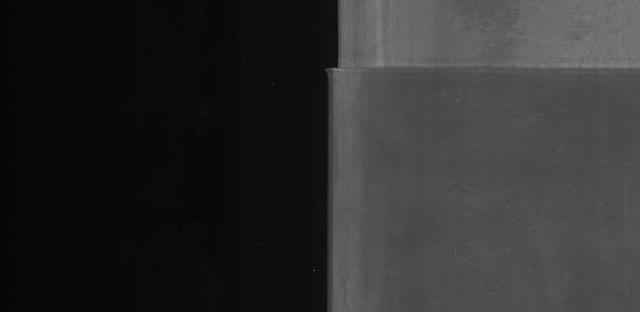welding_line: (322, 55, 640, 79)
